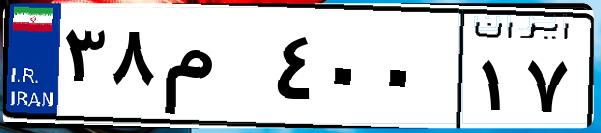0: (385, 28, 445, 110), (330, 28, 385, 110)
1: (475, 38, 525, 113)
3: (57, 26, 110, 100)
4: (270, 28, 330, 110)
7: (525, 38, 570, 115)
8: (110, 28, 158, 98)
م: (158, 20, 270, 120)
